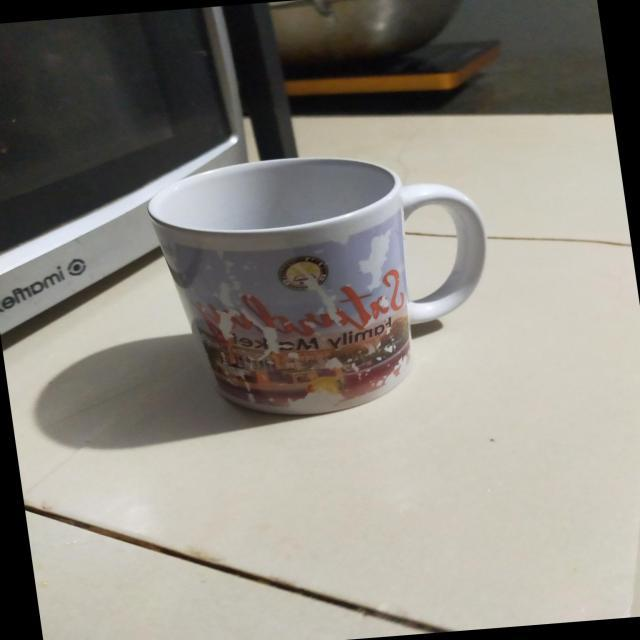taza: (146, 156, 485, 416)
